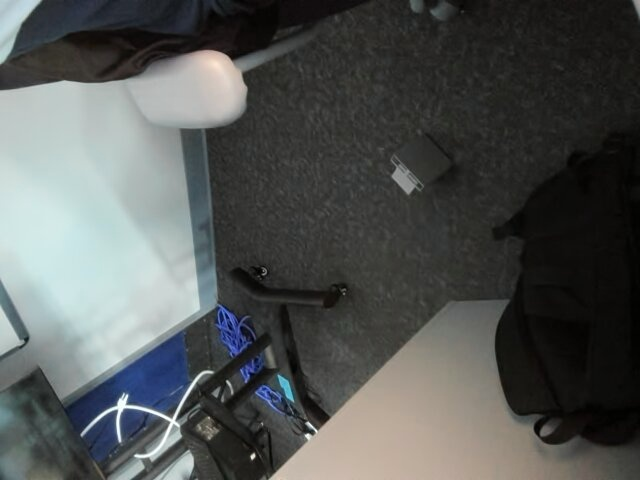grey pallet: (379, 132, 461, 199)
